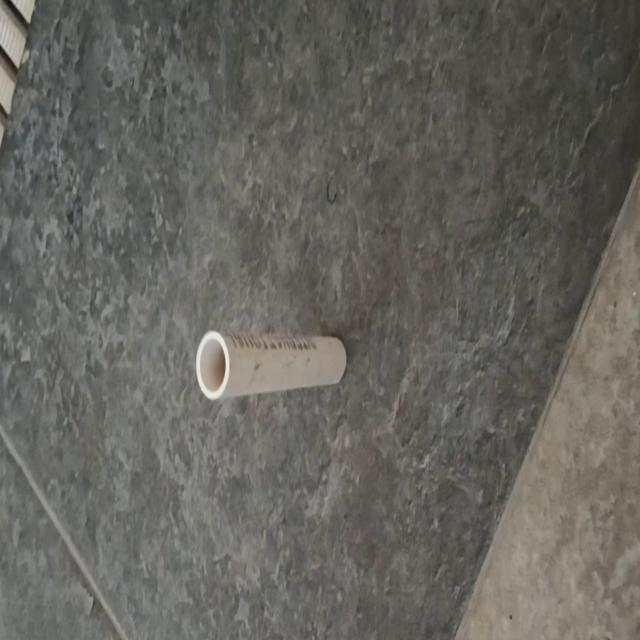Cube: (195, 328, 347, 401)
